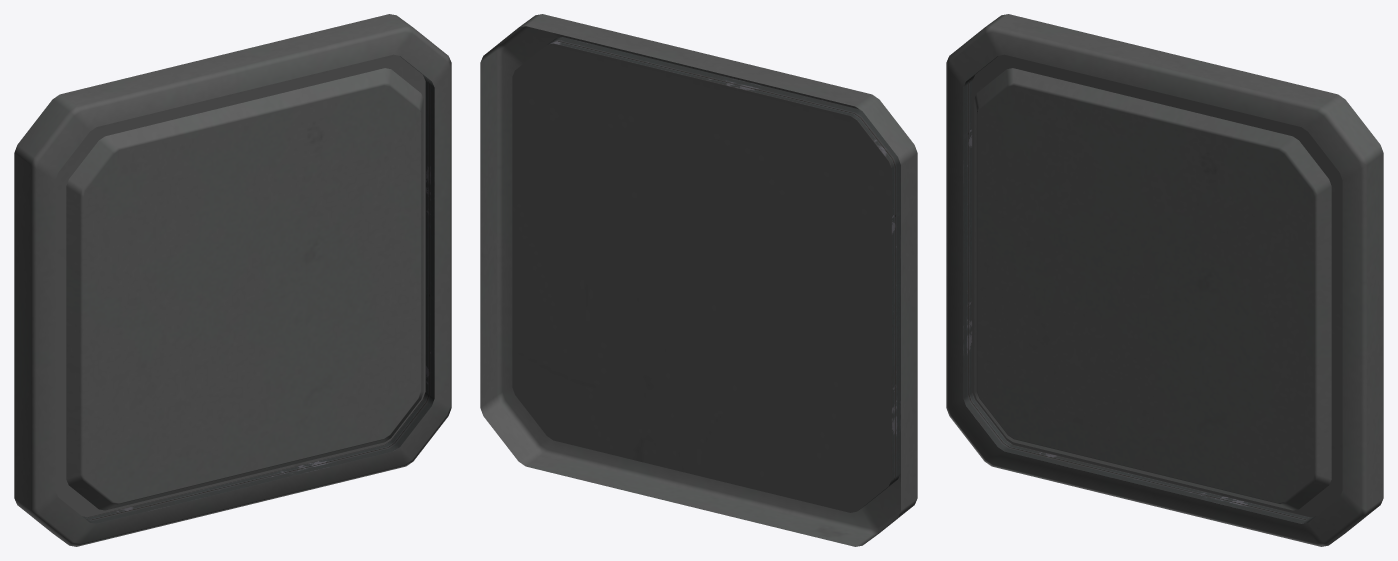
The model's file is Subway_Vents4.fbx.
The picture shows the model from 3 angles, left to right: view 1: azimuth 30°, elevation 25°; view 2: azimuth 150°, elevation 25°; view 3: azimuth 330°, elevation 25°; orthographic projection.
Visible parts, largest first — view 1: polySurface1375; view 2: polySurface1375; view 3: polySurface1375.
Boxes of the visible parts, x1,y1,x2,y2 form: polySurface1375: (14,14,451,546); polySurface1375: (480,14,917,546); polySurface1375: (946,14,1383,546).
Size of the model in its own units: 30.63 by 30.63 by 3.45.
